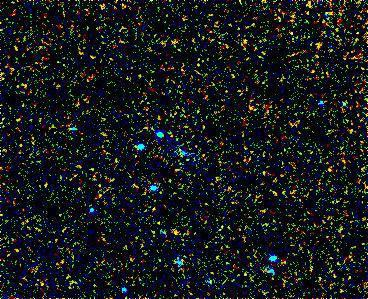star: (162, 222, 192, 252)
